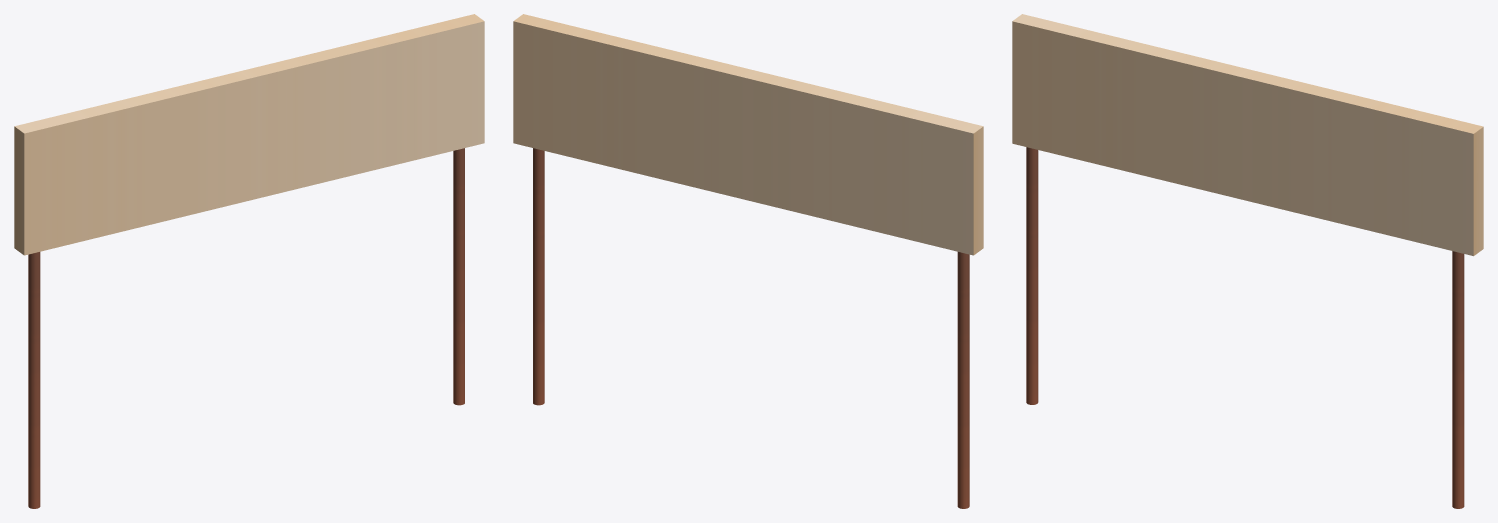
Rendered from Sign.fbx.
The picture shows the model from 3 angles, left to right: view 1: azimuth 30°, elevation 25°; view 2: azimuth 150°, elevation 25°; view 3: azimuth 330°, elevation 25°; orthographic projection.
Parts seen in each view (by area): view 1: Sign Post; view 2: Sign Post; view 3: Sign Post.
Part boxes in pixels (x1,y1,x2,y2): Sign Post: (14, 14, 484, 508); Sign Post: (513, 14, 983, 508); Sign Post: (1012, 14, 1483, 508).
Bounding box in the file's own units: 1800 × 1421 × 67.44.
1 material, 1 textured.
